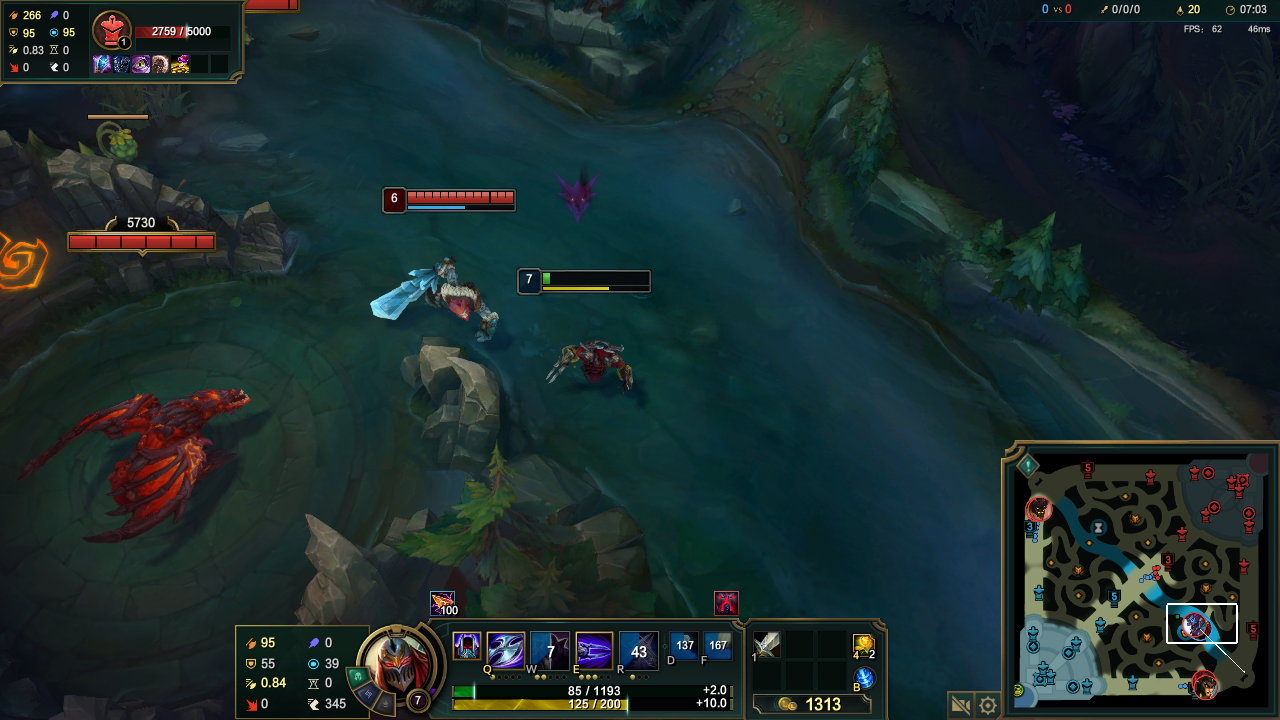DFYX: (406, 192, 513, 210)
